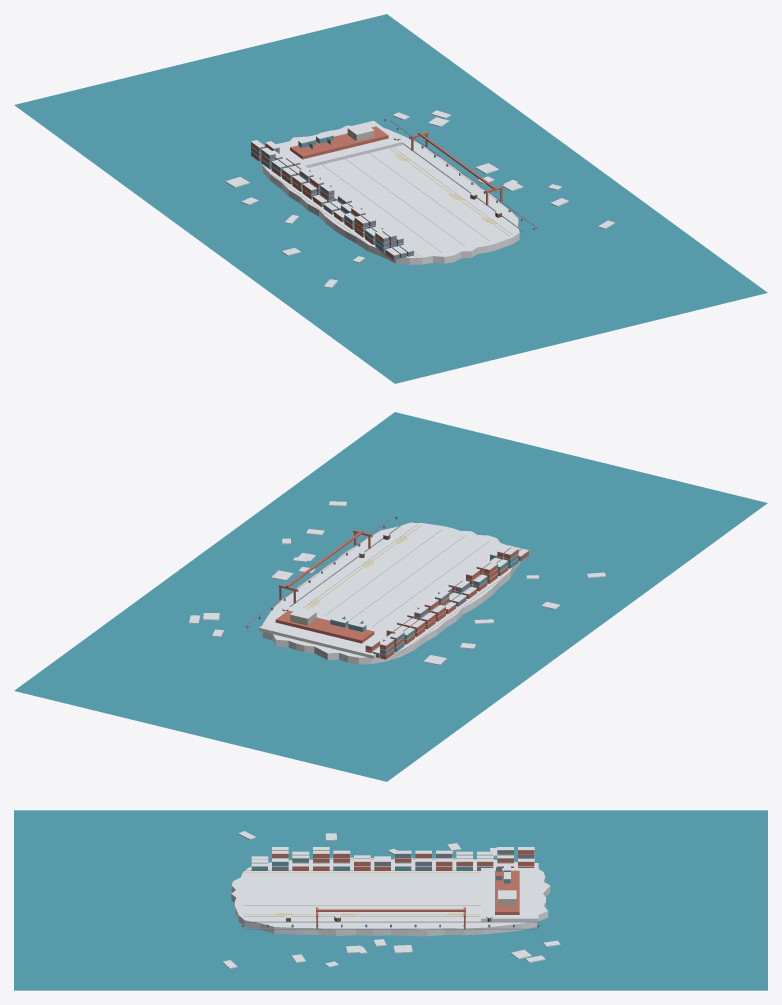
The model's file is icebox.glb.
The picture shows the model from 3 angles, top to bottom: view 1: azimuth 30°, elevation 25°; view 2: azimuth 150°, elevation 25°; view 3: azimuth 270°, elevation 25°; orthographic projection.
Visible parts, largest first — view 1: Static; view 2: Static; view 3: Static.
Boxes of the visible parts, x1,y1,x2,y2 form: Static: (14, 14, 767, 383); Static: (14, 412, 767, 781); Static: (14, 810, 767, 990).
Bounding box in the file's own units: 52 × 4.52 × 92.
